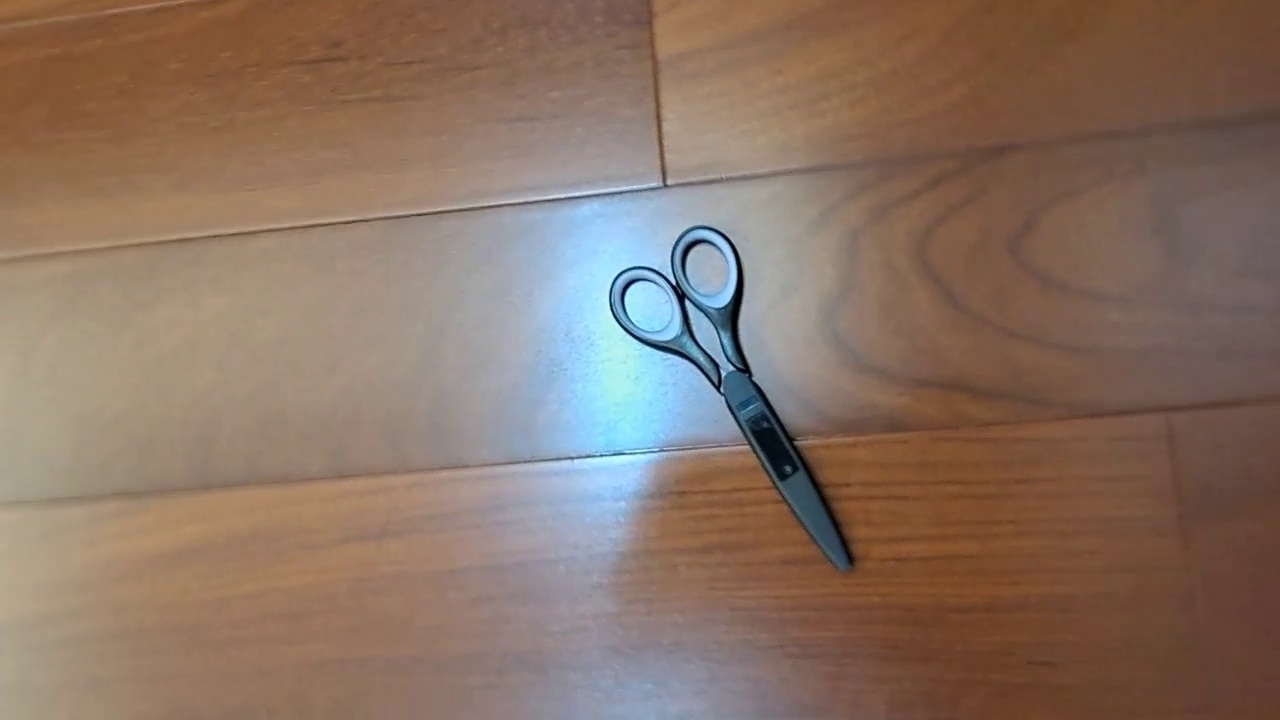scissors: (608, 224, 857, 576)
